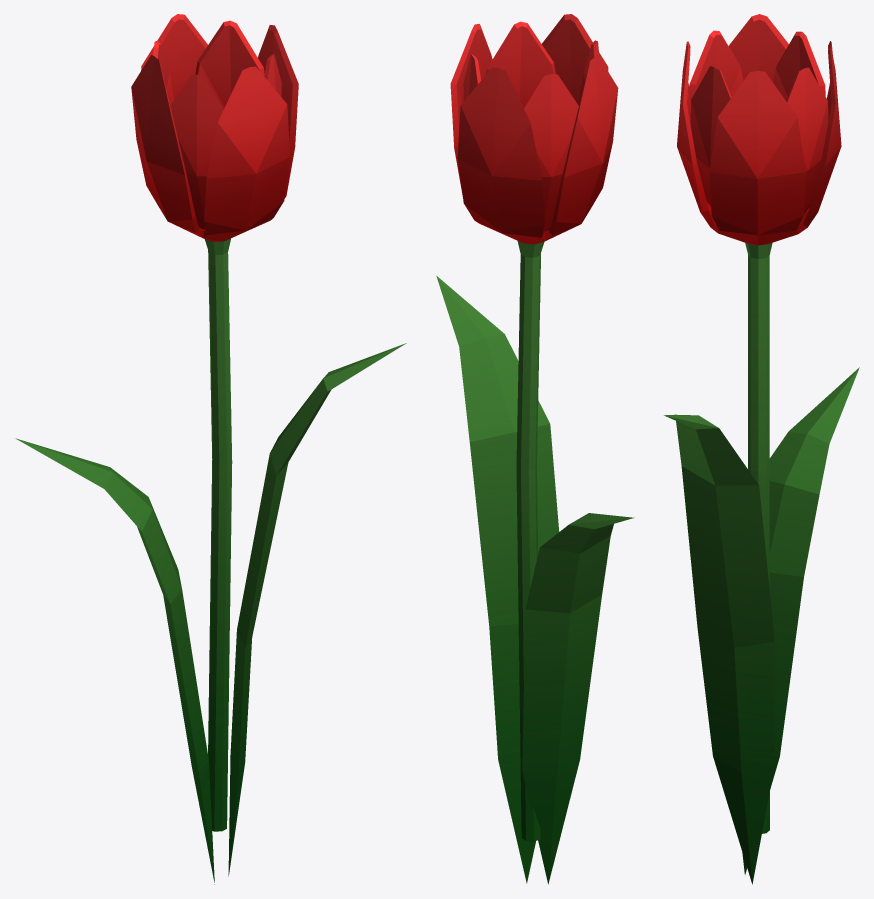
The model's file is Flower_Rose_3.fbx.
3 renders of one model, left to right at view 1: azimuth 30°, elevation 25°; view 2: azimuth 150°, elevation 25°; view 3: azimuth 270°, elevation 25°, orthographic.
Visible parts, largest first — view 1: Flower_Rose_3; view 2: Flower_Rose_3; view 3: Flower_Rose_3.
Boxes of the visible parts, x1,y1,x2,y2 form: Flower_Rose_3: (15,14,406,884); Flower_Rose_3: (436,14,634,884); Flower_Rose_3: (664,14,859,884).
Size of the model in its own units: 22.54 by 61.29 by 13.04.
